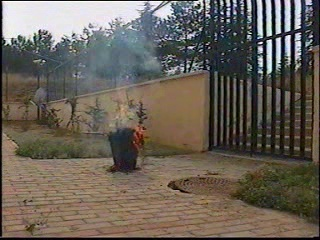smoke: (82, 21, 157, 127)
